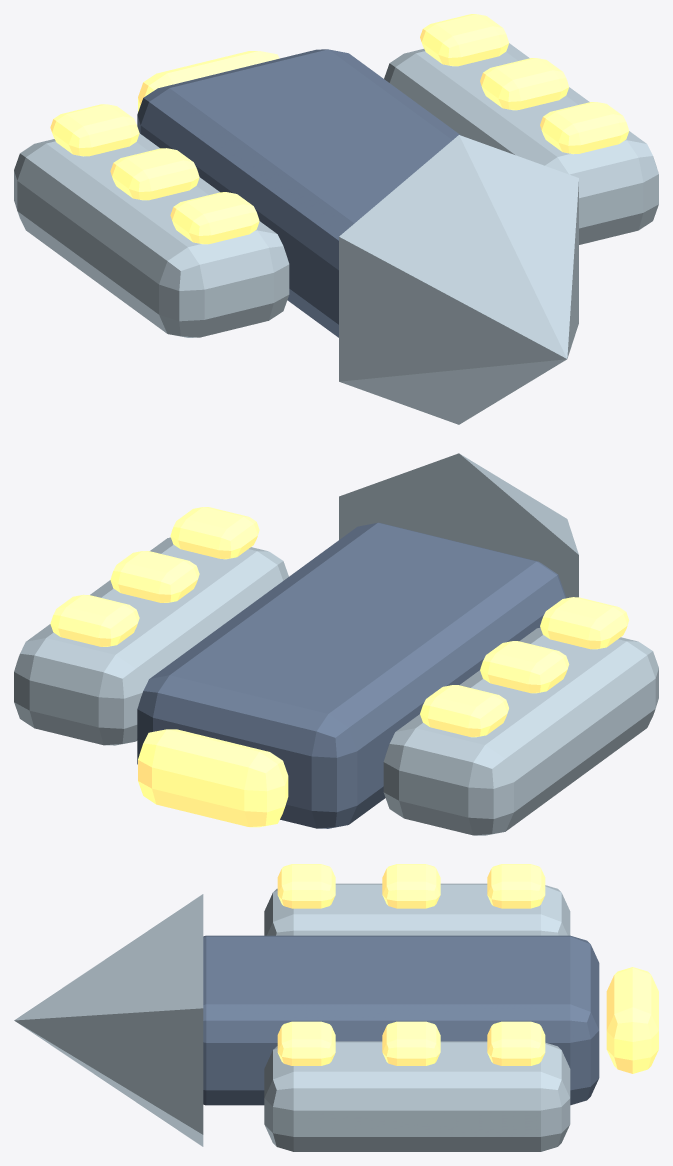
The model's file is bastion.glb.
3 renders of one model, top to bottom at view 1: azimuth 30°, elevation 25°; view 2: azimuth 150°, elevation 25°; view 3: azimuth 270°, elevation 25°, orthographic. The views are drawn at different scales.
Visible parts, largest first — view 1: Cone, Cube, Cube.001, Cube.005, Cube.003, Cube.002, Cube.004, Cube.007, Cube.008, Cube.006, Cube.009; view 2: Cube, Cube.001, Cube.005, Cone, Cube.009, Cube.003, Cube.004, Cube.002, Cube.006, Cube.008, Cube.007; view 3: Cube, Cube.005, Cone, Cube.001, Cube.009, Cube.002, Cube.004, Cube.003, Cube.006, Cube.008, Cube.007.
Part boxes in pixels (x1,y1,x2,y2): Cone: (339, 135, 578, 424); Cube: (137, 49, 460, 337); Cube.001: (14, 133, 289, 337); Cube.005: (384, 43, 658, 244); Cube.003: (110, 148, 199, 200); Cube.002: (170, 192, 259, 244); Cube.004: (50, 104, 139, 156); Cube.007: (480, 58, 568, 110); Cube.008: (420, 14, 508, 66); Cube.006: (540, 102, 628, 154); Cube.009: (138, 51, 279, 111); Cube: (137, 522, 565, 828); Cube.001: (383, 627, 658, 835); Cube.005: (14, 537, 288, 745); Cone: (339, 453, 578, 598); Cube.009: (138, 729, 288, 827); Cube.003: (480, 641, 569, 693); Cube.004: (420, 685, 508, 737); Cube.002: (540, 597, 629, 649); Cube.006: (170, 507, 259, 559); Cube.008: (50, 594, 139, 646); Cube.007: (110, 551, 199, 602); Cube: (203, 935, 599, 1105); Cube.005: (264, 1041, 570, 1151); Cone: (14, 894, 203, 1146); Cube.001: (264, 883, 570, 935); Cube.009: (606, 967, 658, 1073); Cube.002: (277, 864, 335, 908); Cube.004: (487, 864, 545, 908); Cube.003: (382, 864, 440, 908); Cube.006: (277, 1021, 335, 1065); Cube.008: (487, 1021, 545, 1065); Cube.007: (382, 1021, 440, 1065).
Bounding box in the file's own units: 1.72 × 0.96 × 2.21.
